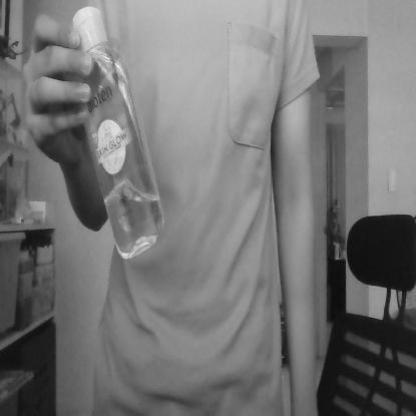Plastic Bottle: (64, 3, 172, 267)
